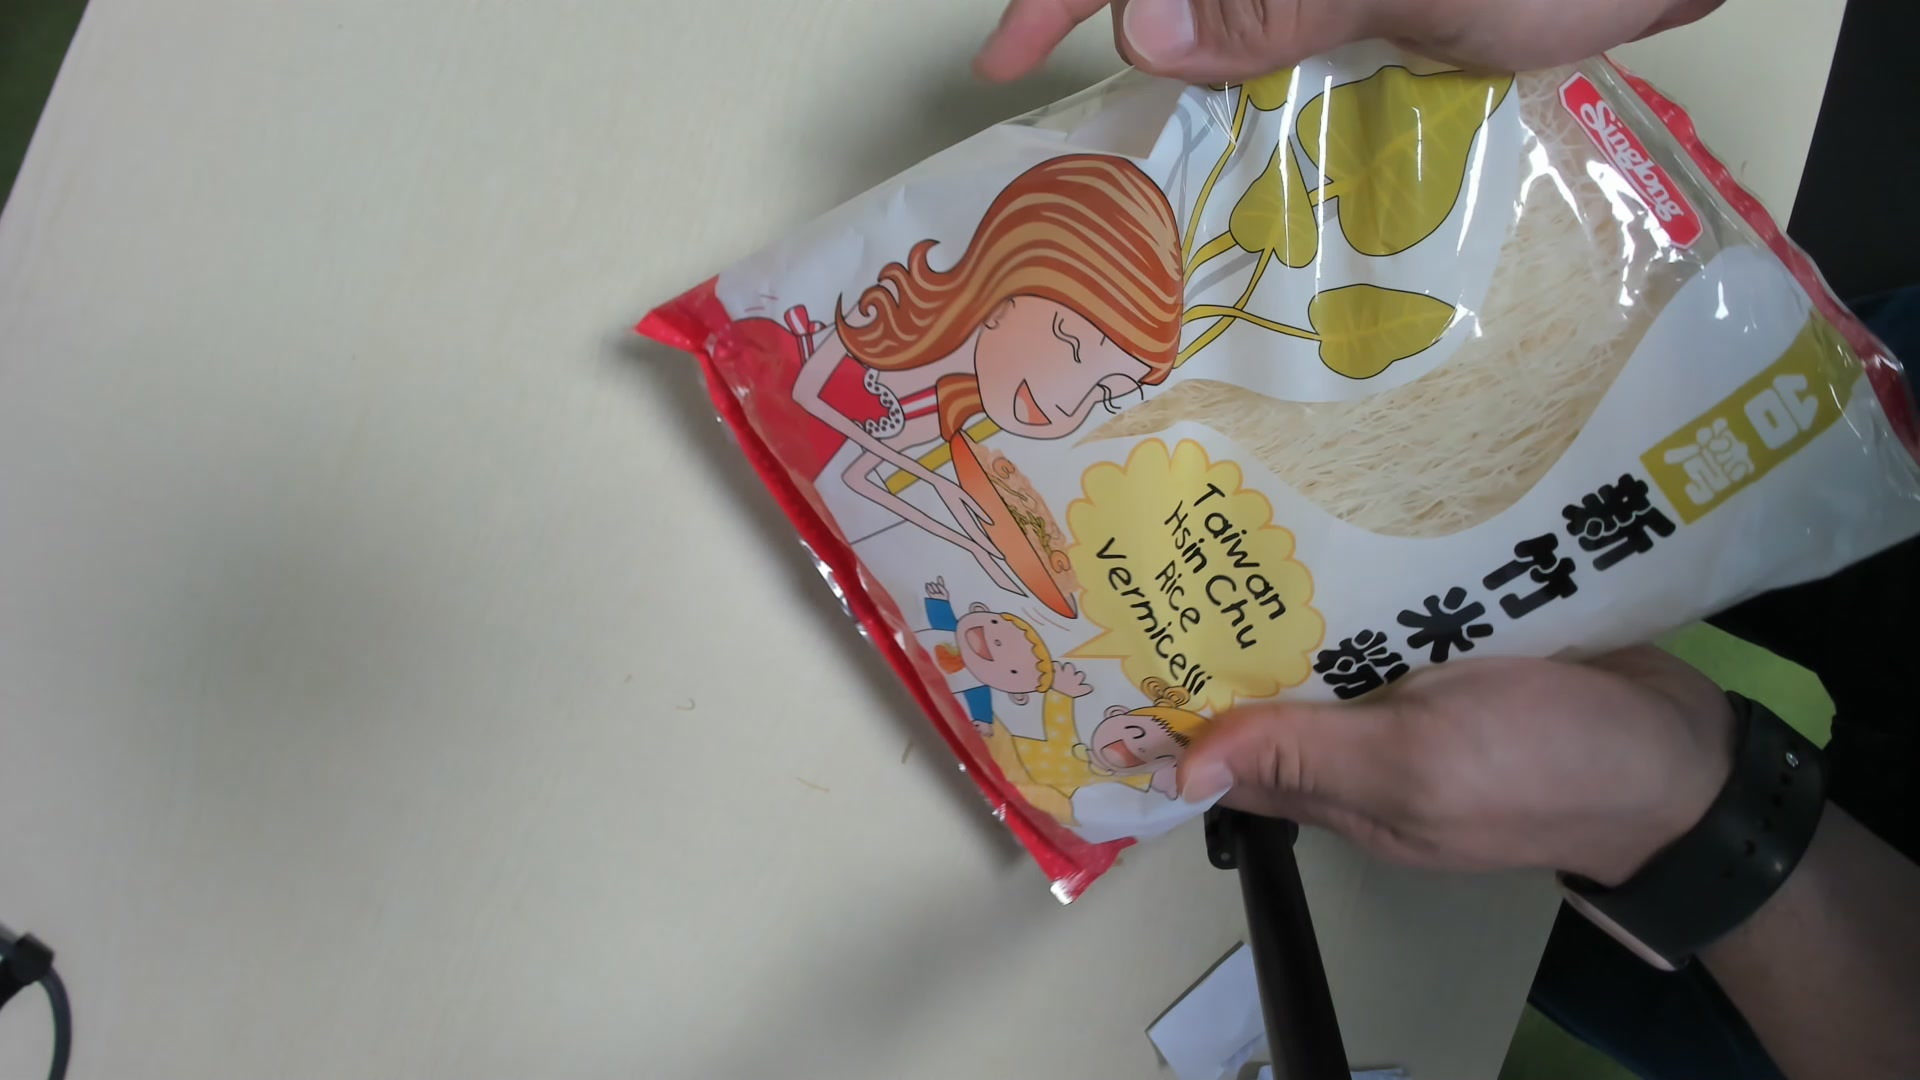BeeHoonVermicelli_0-99g_NonHalal_NonHealthy: (688, 42, 1920, 903)
